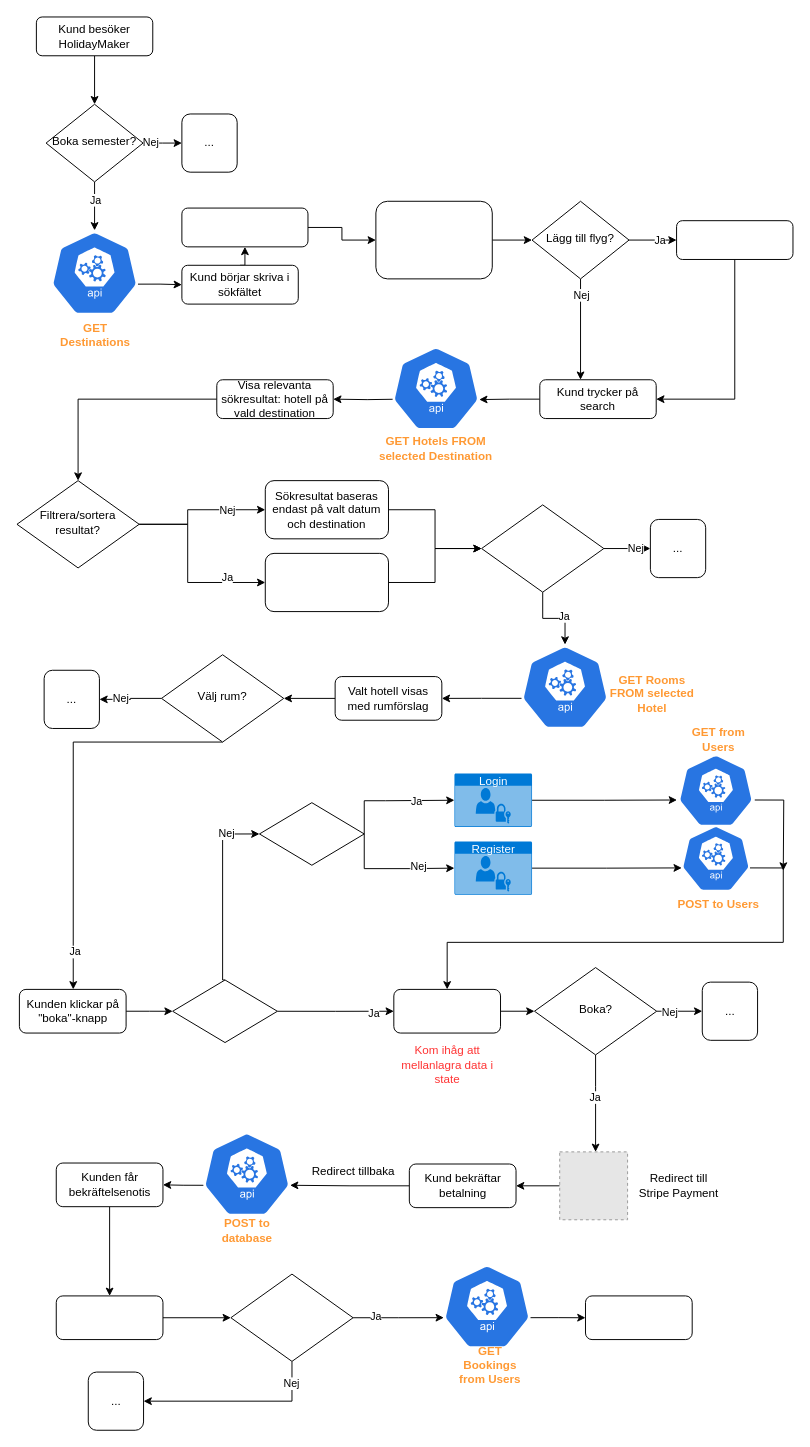
This 810x1447 diagram has some shape labels left out. Grey dashed boxes stand in for pictures. The centre of each missing label's shape, as x and y in pixels:
Flygbiljett läggs till: pixel 734 239
Gå till Mina Bokningar: pixel 638 1317
Har kund konto?: pixel 311 833
Kund väljer resmål, datum för in- och utcheckning, antal gäster och rum: pixel 433 239
Kunden landar i bokningsvy, fyller i detaljer: pixel 447 1010
Redirect till Home: pixel 109 1317
Resmål filtreras baserat på kunds input: pixel 244 227
Sökresultaten justeras efter filter/sortering: pixel 326 582
Visa bokningar?: pixel 291 1317
Välj hotell?: pixel 542 548
Är kund inloggad?: pixel 224 1011
